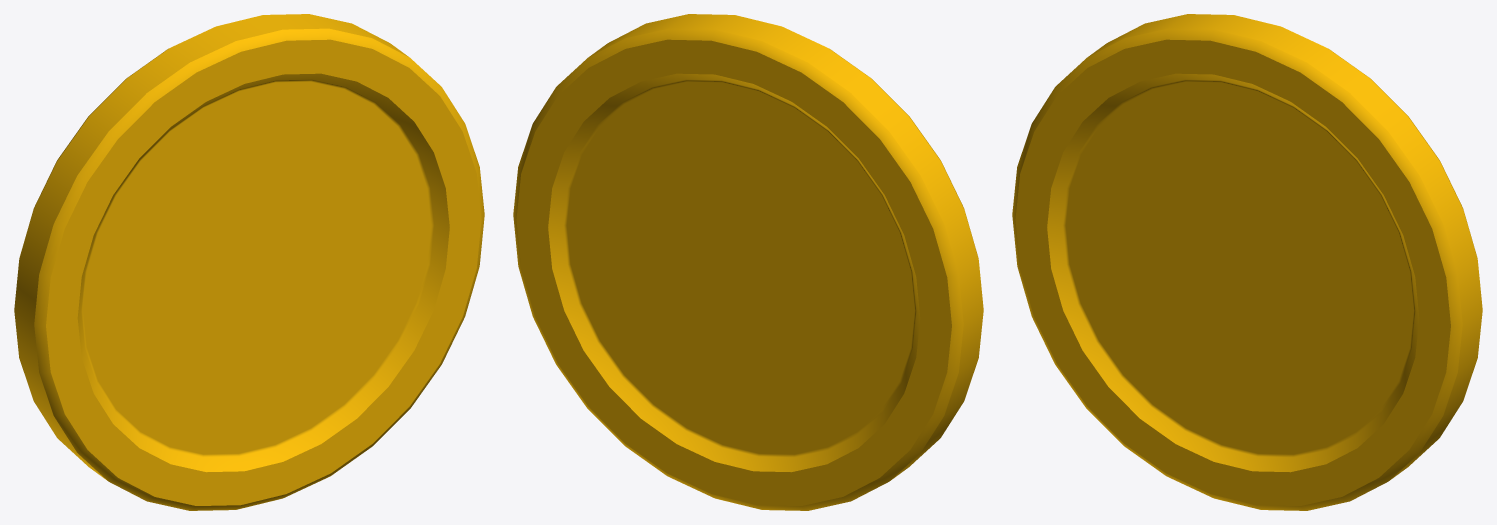
Rendered from Coin.fbx.
The picture shows the model from 3 angles, left to right: view 1: azimuth 30°, elevation 25°; view 2: azimuth 150°, elevation 25°; view 3: azimuth 330°, elevation 25°; orthographic projection.
Parts seen in each view (by area): view 1: Coin; view 2: Coin; view 3: Coin.
Boxes of the visible parts, x1=… form: Coin: x1=14, y1=14, x2=484, y2=510; Coin: x1=513, y1=14, x2=983, y2=510; Coin: x1=1012, y1=14, x2=1482, y2=510.
Bounding box in the file's own units: 1.01 × 1.01 × 0.111.
